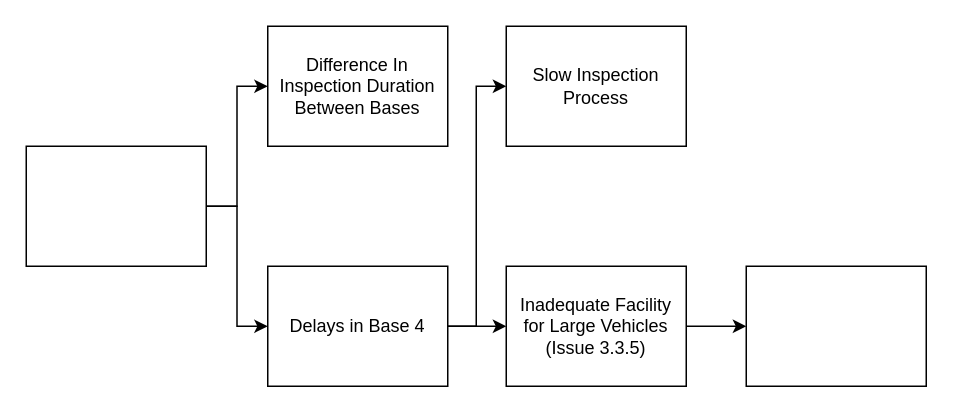
Some shapes in this 953 by 413 pixel diagram are drawn without their labels. The shapes that lost their labels are listed below. From the top down, each one's centre as x and y in pixels, then its label:
At [115,205]: "Vehicles Delayed at Base 3 (Issue 3.3.4)".
At [835,325]: "Hoists Too Small to Accommodate Some Larger Vehicles".
